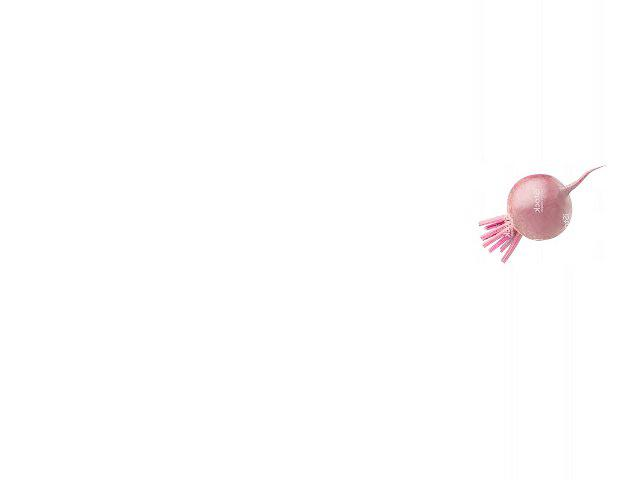beet: (478, 165, 603, 263)
